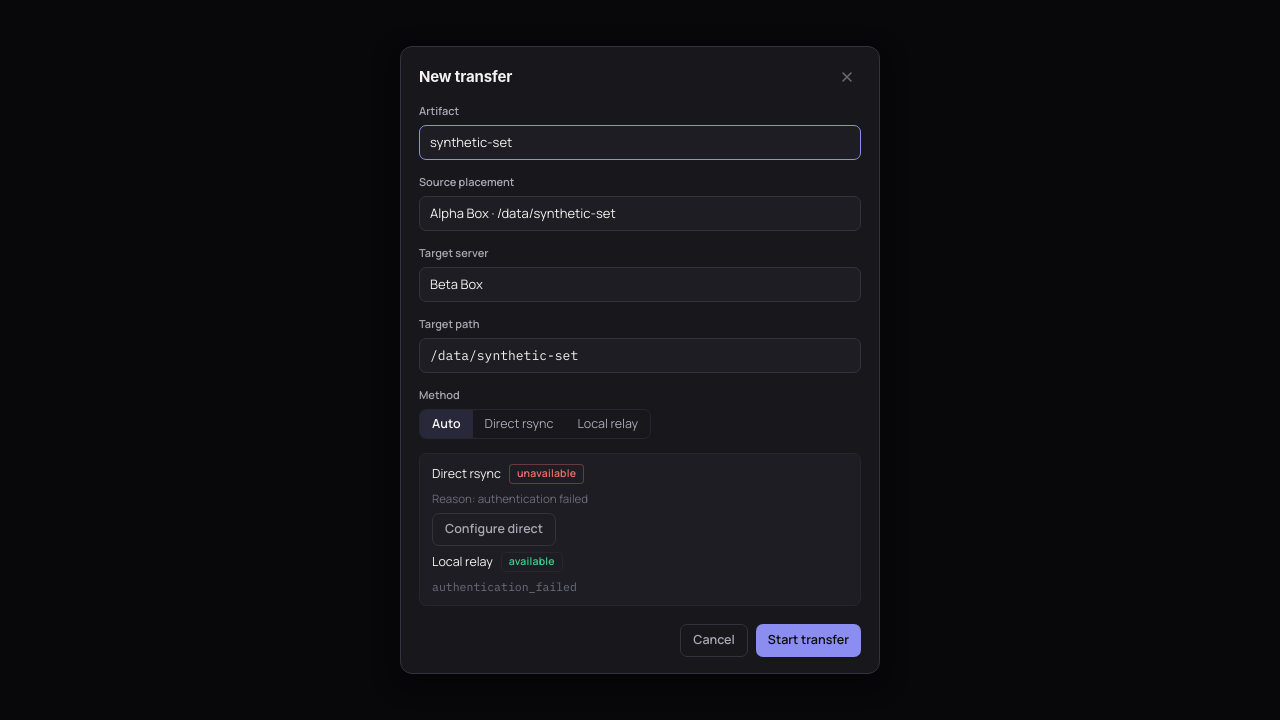
Test case: setup dialog pair seeding (pairs shape) › seeds from the exact (source → target) pair when both directions are listed
The width and height of the screenshot is (1280, 720).
Expected: the text "Reason: authentication failed" is shown, [432,491,588,506]
Click the button "Configure direct" at [494, 530], box [432,513,556,546]
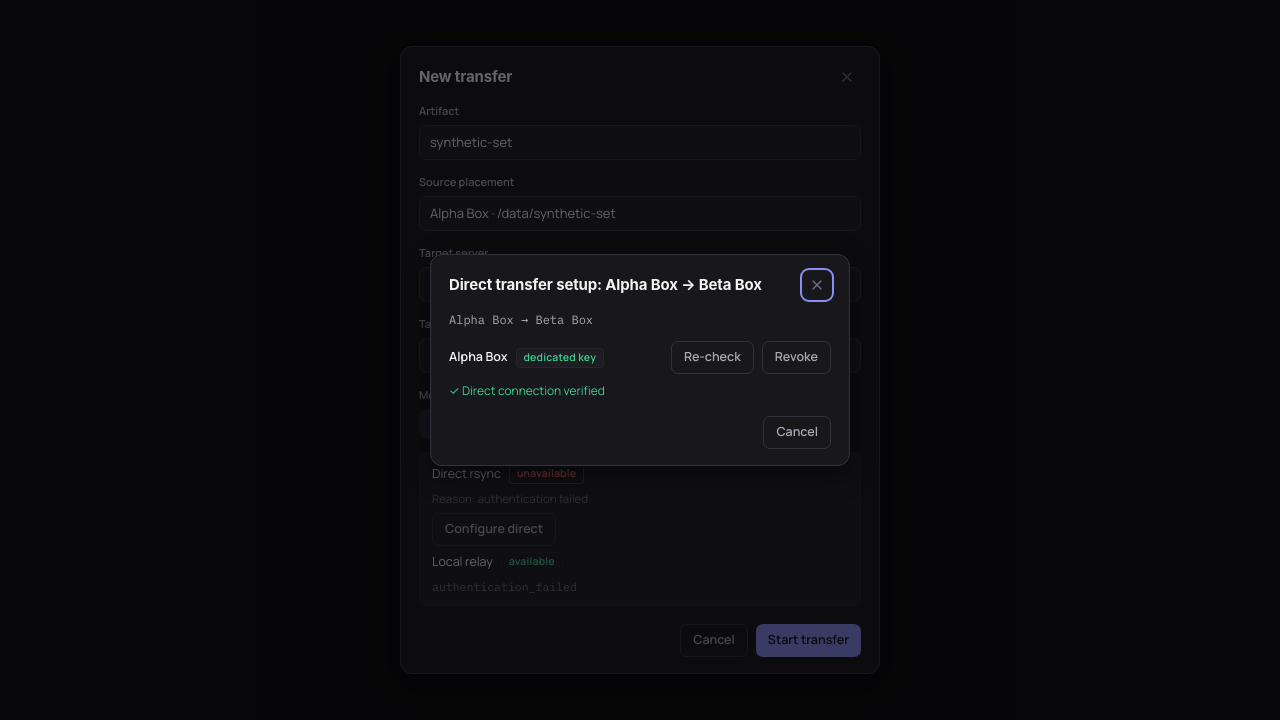
Result: the text "✓ Direct connection verified" is shown at [449,382,605,399]
